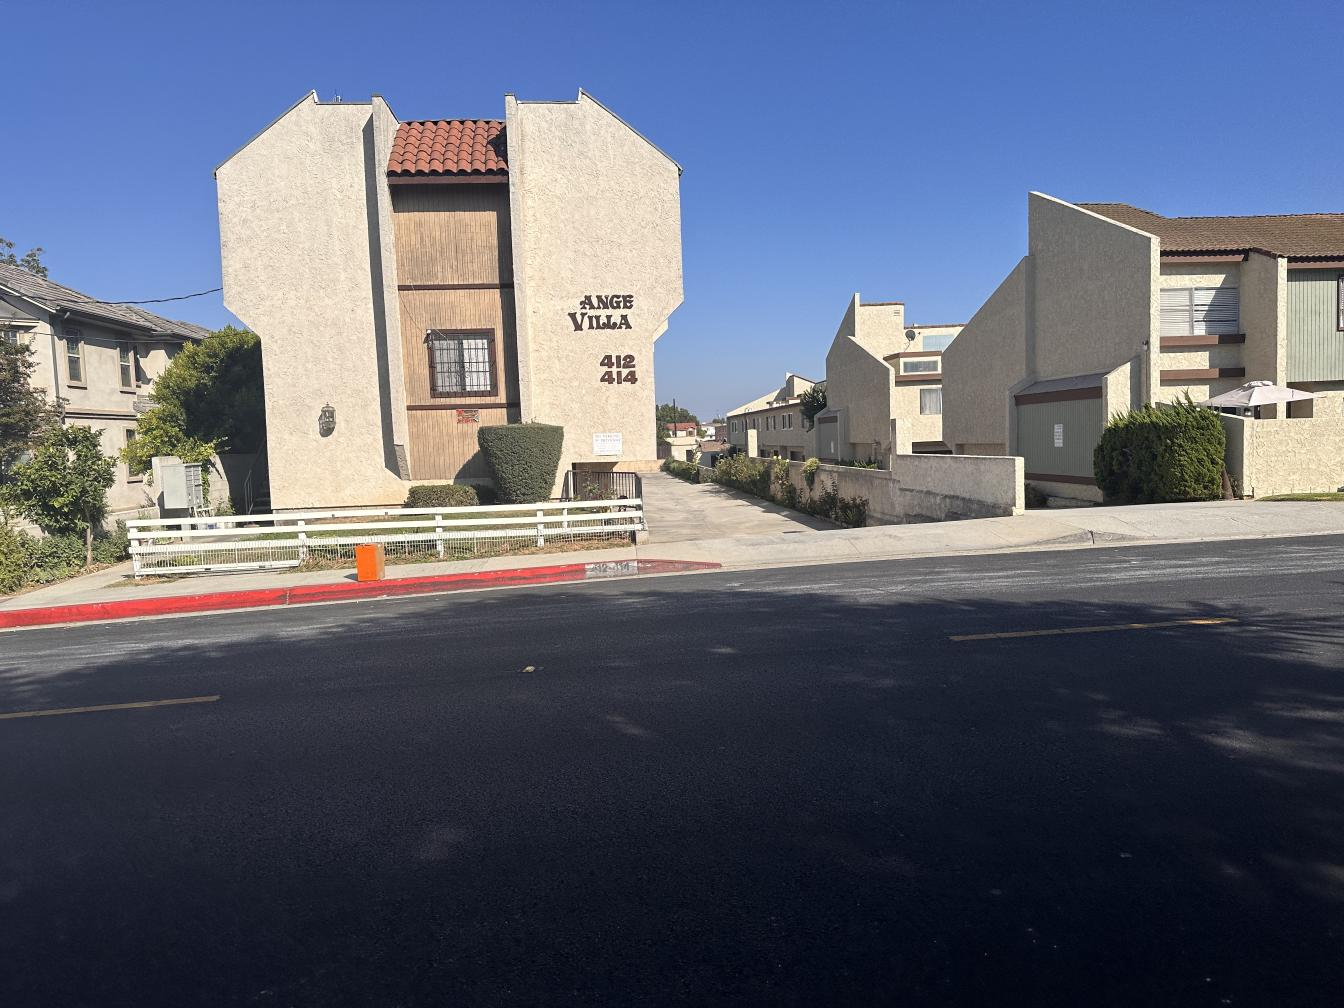orange box: (355, 543, 387, 580)
